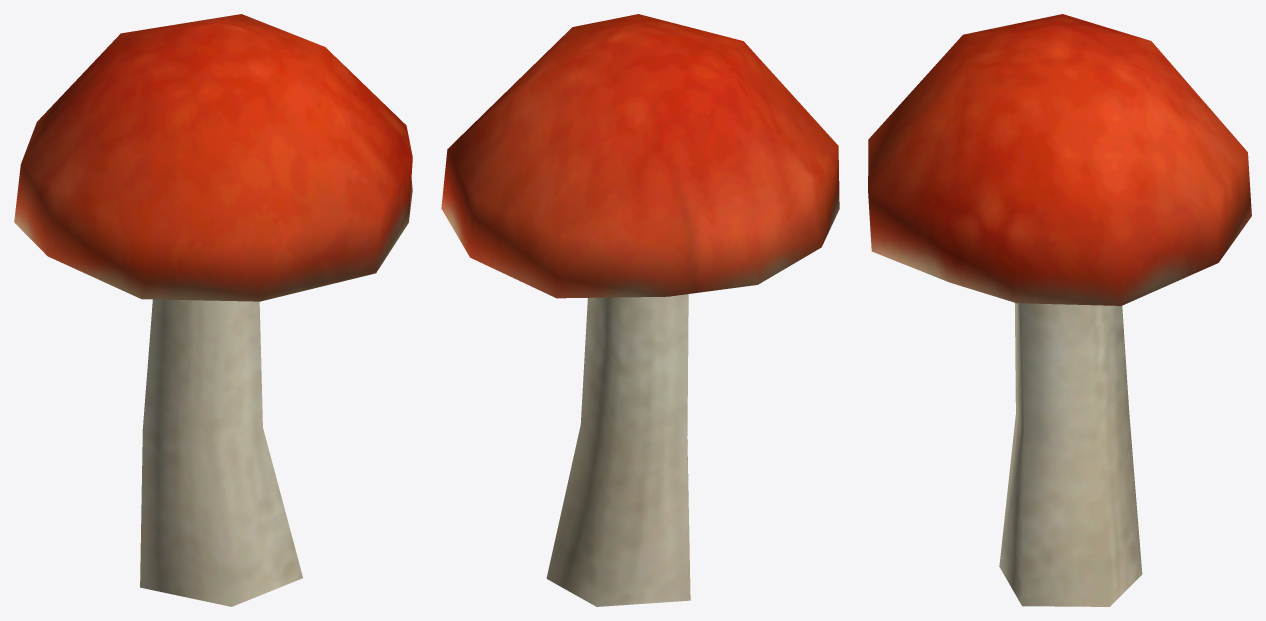
Rendered from mushroom_01.glb.
3 renders of one model, left to right at view 1: azimuth 30°, elevation 25°; view 2: azimuth 150°, elevation 25°; view 3: azimuth 270°, elevation 25°, orthographic. The views are drawn at different scales.
Visible parts, largest first — view 1: mushroom_01; view 2: mushroom_01; view 3: mushroom_01.
Boxes of the visible parts, <box> form: mushroom_01: <box>14,14,412,606</box>; mushroom_01: <box>441,14,839,606</box>; mushroom_01: <box>868,14,1251,606</box>.
Size of the model in its own units: 0.282 by 0.4253 by 0.2737.
1 material, 1 textured.
